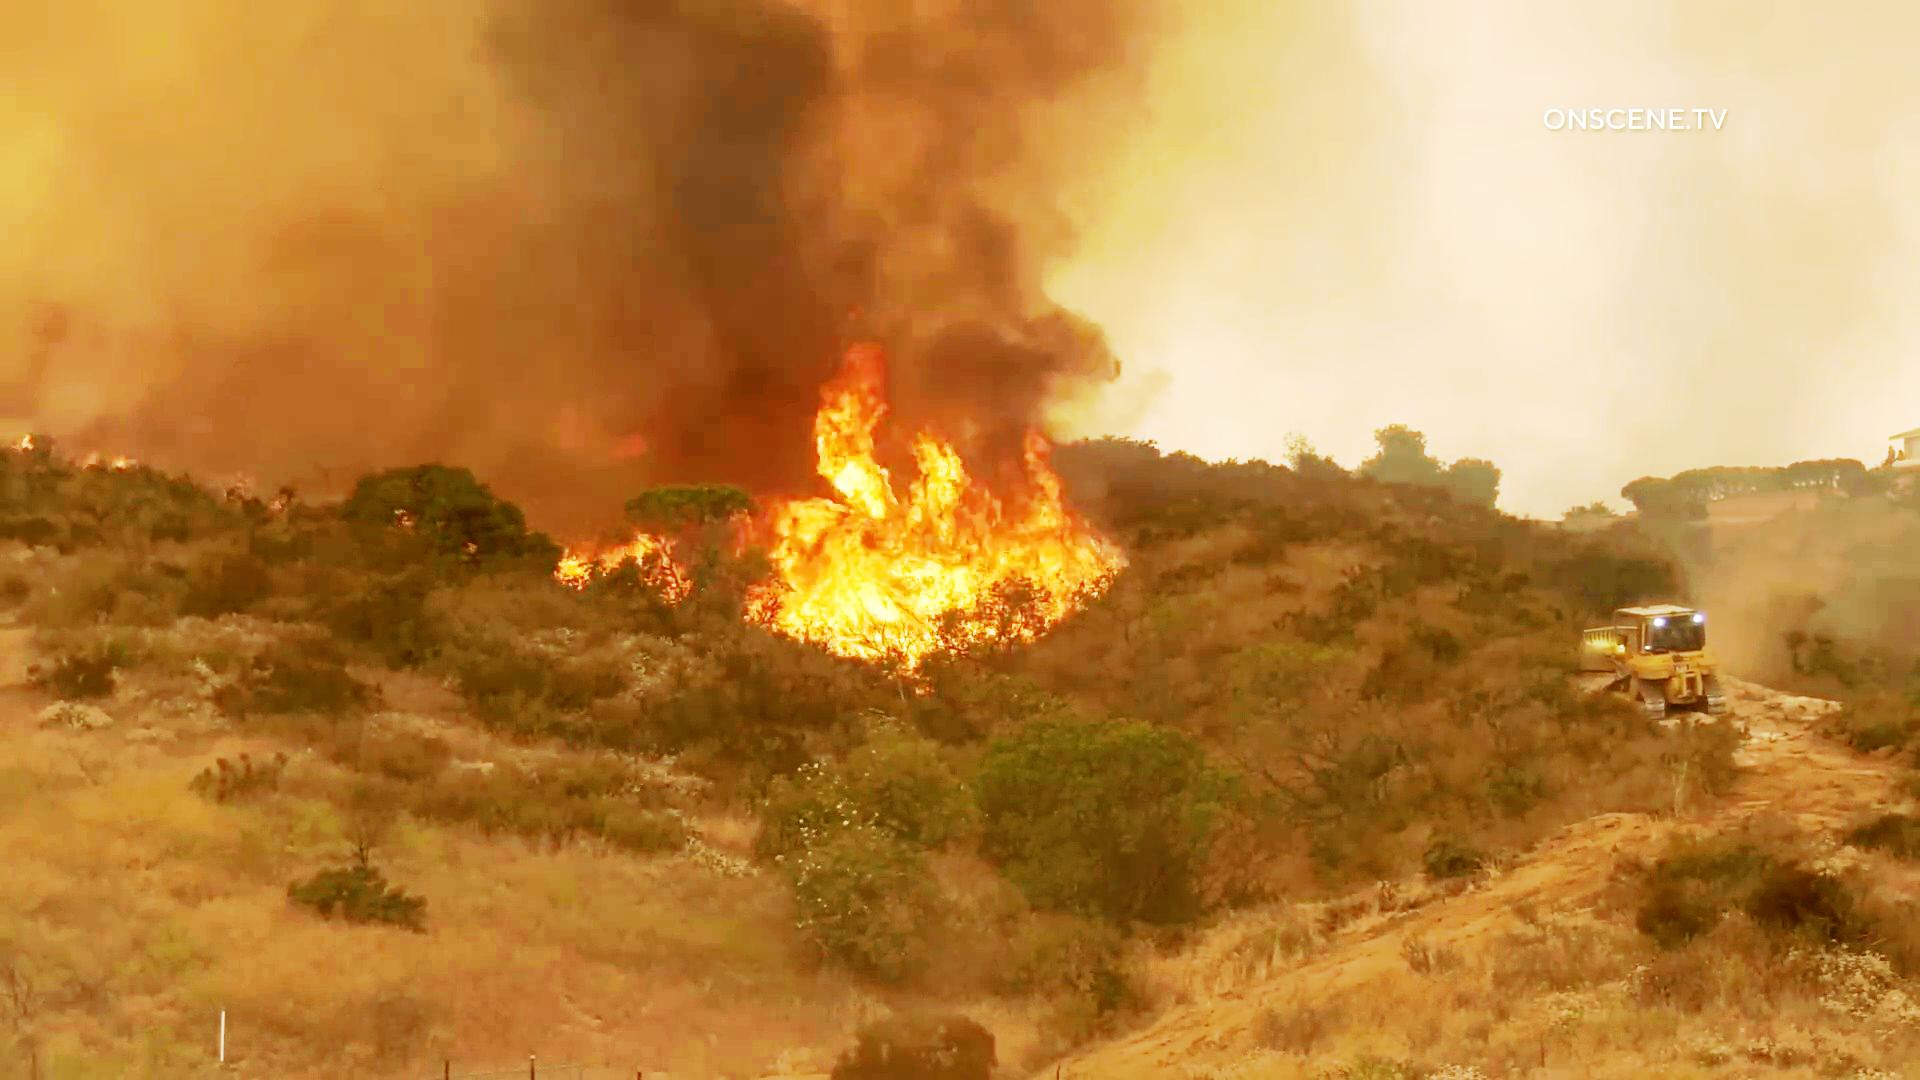fire: (756, 393, 1133, 687), (524, 446, 671, 595)
smoke: (452, 46, 737, 426), (857, 26, 1143, 375)
